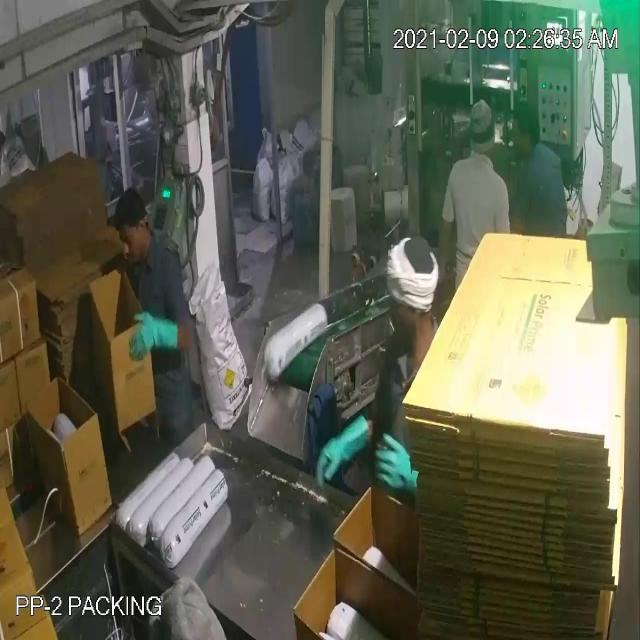Gloves: (24, 70, 445, 468)
